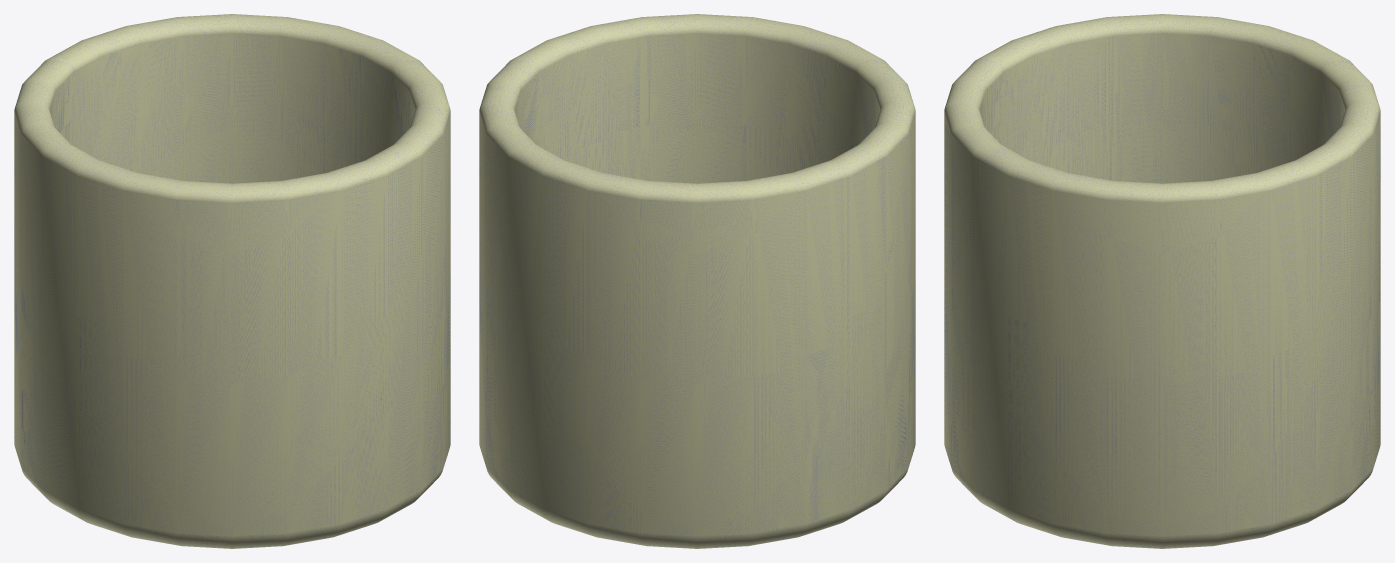
3 views of the same model, side by side, from view 1: azimuth 30°, elevation 25°; view 2: azimuth 150°, elevation 25°; view 3: azimuth 270°, elevation 25° (orthographic).
Parts seen in each view (by area): view 1: group_0; view 2: group_0; view 3: group_0.
Boxes of the visible parts, box(x1,y1,x2,y2) form: group_0: box(14, 14, 450, 548); group_0: box(479, 14, 915, 548); group_0: box(944, 14, 1380, 548).
Bounding box in the file's own units: 0.0818 × 0.0818 × 0.0766.
